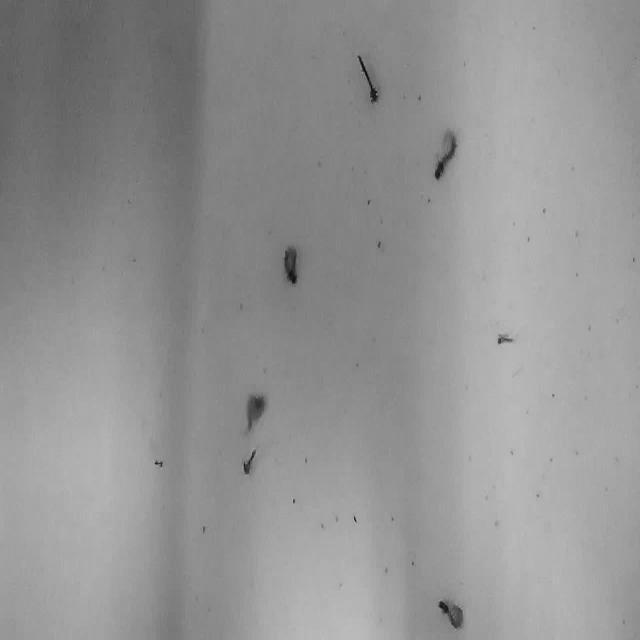larvas: (433, 127, 458, 180), (357, 54, 378, 102), (438, 596, 464, 630), (244, 392, 266, 432), (284, 245, 298, 282), (243, 449, 256, 474), (497, 335, 515, 344)
